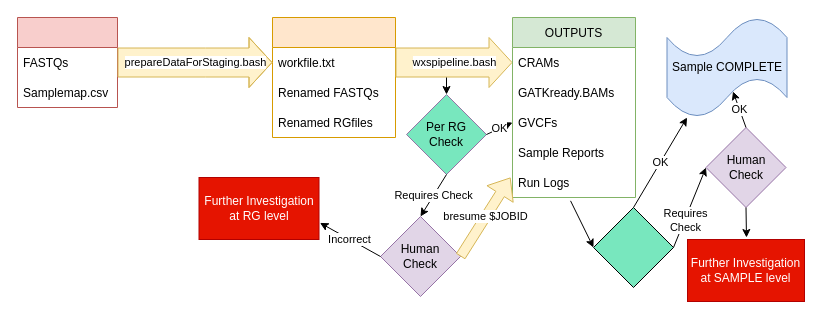
The diagram is 822 pixels wide and 319 high, and some of its shapes have lost their labels. The shapes that lost their labels are listed below. From the top down, each one's box as (x1, y1, x2, y2) in pixels, then its label:
(16, 16, 118, 108): RAW DATA
(272, 16, 396, 138): INPUTS
(592, 206, 674, 288): Per Sample Check
